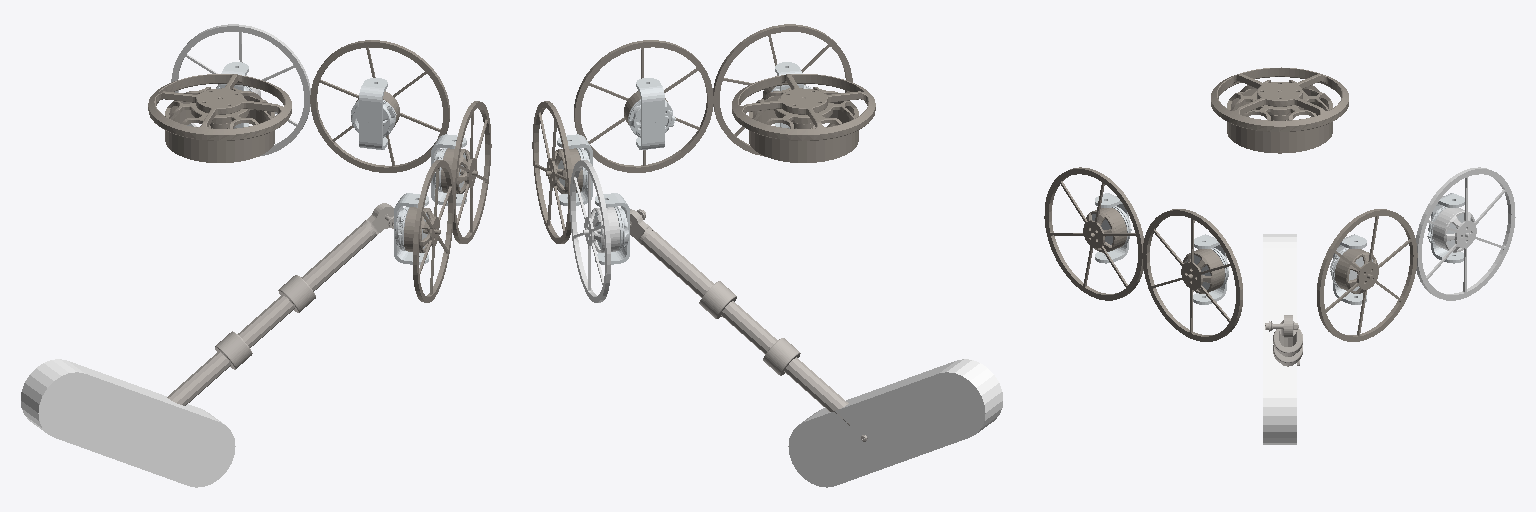
robot.urdf — hopper_cmg_01:
<?xml version="1.0" encoding="utf-8"?>
<!-- This URDF was automatically created by SolidWorks to URDF Exporter! Originally created by [author] ([email redacted]) 
     Commit Version: 1.6.0-4-g7f85cfe  Build Version: 1.6.7995.38578
     For more information, please see http://wiki.ros.org/sw_urdf_exporter -->
<robot
  name="hopper_cmg_01">
  <link
    name="base_link">
    <inertial>
      <origin
        xyz="0.00205710480969474 0.000103468829143708 0.0218759927030672"
        rpy="0 0 0" />
      <mass
        value="4.33216790659109" />
      <inertia
        ixx="0.00379773001718443"
        ixy="-3.22398991976046E-06"
        ixz="5.54302878598966E-05"
        iyy="0.00606718252076055"
        iyz="8.35829380134359E-06"
        izz="0.00477430931356579" />
    </inertial>
    <visual>
      <origin
        xyz="0 0 0"
        rpy="0 0 0" />
      <geometry>
        <mesh
          filename="package://hopper_cmg_01/meshes/base_link.STL" />
      </geometry>
      <material
        name="">
        <color
          rgba="0.898039215686275 0.898039215686275 0.898039215686275 1" />
      </material>
    </visual>
    <collision>
      <origin
        xyz="0 0 0"
        rpy="0 0 0" />
      <geometry>
        <mesh
          filename="package://hopper_cmg_01/meshes/base_link.STL" />
      </geometry>
    </collision>
  </link>
  <link
    name="Link 0">
    <inertial>
      <origin
        xyz="0.0121851264299085 0.018088901394185 0.00112690392742548"
        rpy="0 0 0" />
      <mass
        value="0.256385566503952" />
      <inertia
        ixx="3.84650100874964E-05"
        ixy="1.5379784060096E-05"
        ixz="-8.48318798628566E-06"
        iyy="0.00017263374747093"
        iyz="1.08260201375488E-06"
        izz="0.000148822440720501" />
    </inertial>
    <visual>
      <origin
        xyz="0 0 0"
        rpy="0 0 0" />
      <geometry>
        <mesh
          filename="package://hopper_cmg_01/meshes/Link 0.STL" />
      </geometry>
      <material
        name="">
        <color
          rgba="0.898039215686275 0.898039215686275 0.898039215686275 1" />
      </material>
    </visual>
    <collision>
      <origin
        xyz="0 0 0"
        rpy="0 0 0" />
      <geometry>
        <mesh
          filename="package://hopper_cmg_01/meshes/Link 0.STL" />
      </geometry>
    </collision>
  </link>
  <joint
    name="Joint 0"
    type="revolute">
    <origin
      xyz="0 0 0"
      rpy="0 0.5235987755983 0" />
    <parent
      link="base_link" />
    <child
      link="Link 0" />
    <axis
      xyz="0 -1 0" />
    <limit
      lower="-3.14"
      upper="3.14"
      effort="0"
      velocity="0" />
  </joint>
  <link
    name="Link 1">
    <inertial>
      <origin
        xyz="0.133101645966311 0.00652998365272042 -1.77401565659707E-09"
        rpy="0 0 0" />
      <mass
        value="0.0631473819780702" />
      <inertia
        ixx="2.55548531328565E-06"
        ixy="6.97718053258012E-12"
        ixz="-1.43600151472767E-12"
        iyy="0.000104301911822778"
        iyz="7.22908067863827E-12"
        izz="0.000104301119173831" />
    </inertial>
    <visual>
      <origin
        xyz="0 0 0"
        rpy="0 0 0" />
      <geometry>
        <mesh
          filename="package://hopper_cmg_01/meshes/Link 1.STL" />
      </geometry>
      <material
        name="">
        <color
          rgba="0.776470588235294 0.756862745098039 0.737254901960784 1" />
      </material>
    </visual>
    <collision>
      <origin
        xyz="0 0 0"
        rpy="0 0 0" />
      <geometry>
        <mesh
          filename="package://hopper_cmg_01/meshes/Link 1.STL" />
      </geometry>
    </collision>
  </link>
  <joint
    name="Joint 1"
    type="revolute">
    <origin
      xyz="0.0999999999999999 0 0"
      rpy="-3.14159265358979 1.0768315178335 -3.14159265358979" />
    <parent
      link="Link 0" />
    <child
      link="Link 1" />
    <axis
      xyz="0 -1 0" />
    <limit
      lower="-0.7597"
      upper="1.8295"
      effort="0"
      velocity="0" />
  </joint>
  <link
    name="Link 2">
    <inertial>
      <origin
        xyz="0.0389032292366799 -0.0169313659858608 -0.000627148515342586"
        rpy="0 0 0" />
      <mass
        value="0.288845047026487" />
      <inertia
        ixx="3.46488303945479E-05"
        ixy="-3.25958703037608E-07"
        ixz="5.2492869432016E-06"
        iyy="0.000245584749831182"
        iyz="3.01080240182648E-08"
        izz="0.000226676365115679" />
    </inertial>
    <visual>
      <origin
        xyz="0 0 0"
        rpy="0 0 0" />
      <geometry>
        <mesh
          filename="package://hopper_cmg_01/meshes/Link 2.STL" />
      </geometry>
      <material
        name="">
        <color
          rgba="0.898039215686275 0.898039215686275 0.898039215686275 1" />
      </material>
    </visual>
    <collision>
      <origin
        xyz="0 0 0"
        rpy="0 0 0" />
      <geometry>
        <mesh
          filename="package://hopper_cmg_01/meshes/Link 2.STL" />
      </geometry>
    </collision>
  </link>
  <joint
    name="Joint 2"
    type="revolute">
    <origin
      xyz="0 0 0"
      rpy="3.14159265358979 0.553232742319403 -3.14159265358979" />
    <parent
      link="base_link" />
    <child
      link="Link 2" />
    <axis
      xyz="0 -1 0" />
    <limit
      lower="-3.14"
      upper="3.14"
      effort="0"
      velocity="0" />
  </joint>
  <link
    name="Link 3">
    <inertial>
      <origin
        xyz="0.101438166339763 -0.00251001126653755 -0.0148532865535596"
        rpy="0 0 0" />
      <mass
        value="0.124857598489408" />
      <inertia
        ixx="1.60742533765856E-05"
        ixy="-5.54606758491007E-07"
        ixz="1.00368165914556E-06"
        iyy="0.000116506433508525"
        iyz="1.07130613360585E-07"
        izz="0.000112946753522058" />
    </inertial>
    <visual>
      <origin
        xyz="0 0 0"
        rpy="0 0 0" />
      <geometry>
        <mesh
          filename="package://hopper_cmg_01/meshes/Link 3.STL" />
      </geometry>
      <material
        name="">
        <color
          rgba="1 1 1 1" />
      </material>
    </visual>
    <collision>
      <origin
        xyz="0 0 0"
        rpy="0 0 0" />
      <geometry>
        <mesh
          filename="package://hopper_cmg_01/meshes/Link 3.STL" />
      </geometry>
    </collision>
  </link>
  <joint
    name="Joint 3"
    type="revolute">
    <origin
      xyz="0.270000000042219 0 0"
      rpy="-3.14159265358979 -1.07683151743819 3.14159265358979" />
    <parent
      link="Link 2" />
    <child
      link="Link 3" />
    <axis
      xyz="0 -1 0" />
    <limit
      lower="-1.8295"
      upper="0.7597"
      effort="0"
      velocity="0" />
  </joint>
  <link
    name="gimbal0">
    <inertial>
      <origin
        xyz="-3.24494830612199E-05 -0.00476693855528867 -0.0330146895510202"
        rpy="0 0 0" />
      <mass
        value="0.145059238039555" />
      <inertia
        ixx="2.1627044716609E-05"
        ixy="-3.51182077407443E-08"
        ixz="-1.73128407882401E-09"
        iyy="2.68084681052019E-05"
        iyz="-1.59539178282102E-08"
        izz="1.56100643951685E-05" />
    </inertial>
    <visual>
      <origin
        xyz="0 0 0"
        rpy="0 0 0" />
      <geometry>
        <mesh
          filename="package://hopper_cmg_01/meshes/gimbal0.STL" />
      </geometry>
      <material
        name="">
        <color
          rgba="0.898039215686275 0.917647058823529 0.929411764705882 1" />
      </material>
    </visual>
    <collision>
      <origin
        xyz="0 0 0"
        rpy="0 0 0" />
      <geometry>
        <mesh
          filename="package://hopper_cmg_01/meshes/gimbal0.STL" />
      </geometry>
    </collision>
  </link>
  <joint
    name="joint_gimbal0"
    type="revolute">
    <origin
      xyz="0.027153 -0.15058 -0.018"
      rpy="-3.1416 0 0.7854" />
    <parent
      link="base_link" />
    <child
      link="gimbal0" />
    <axis
      xyz="0 0 1" />
    <limit
      lower="-1.57"
      upper="1.57"
      effort="0"
      velocity="0" />
  </joint>
  <link
    name="rw0">
    <inertial>
      <origin
        xyz="1.18130272369621E-07 -1.53730910321115E-07 -0.00582396682589451"
        rpy="0 0 0" />
      <mass
        value="0.10970736907618" />
      <inertia
        ixx="9.95338850353853E-05"
        ixy="8.58053417645318E-12"
        ixz="-7.74394638549476E-11"
        iyy="9.95339643952823E-05"
        iyz="8.9678247023017E-11"
        izz="0.000195642469806102" />
    </inertial>
    <visual>
      <origin
        xyz="0 0 0"
        rpy="0 0 0" />
      <geometry>
        <mesh
          filename="package://hopper_cmg_01/meshes/rw0.STL" />
      </geometry>
      <material
        name="">
        <color
          rgba="0.647058823529412 0.619607843137255 0.588235294117647 1" />
      </material>
    </visual>
    <collision>
      <origin
        xyz="0 0 0"
        rpy="0 0 0" />
      <geometry>
        <mesh
          filename="package://hopper_cmg_01/meshes/rw0.STL" />
      </geometry>
    </collision>
  </link>
  <joint
    name="joint_rw0"
    type="continuous">
    <origin
      xyz="0 0.0157238798738167 -0.0329999999999999"
      rpy="1.5707963267949 0.735922711393741 3.14159265358979" />
    <parent
      link="gimbal0" />
    <child
      link="rw0" />
    <axis
      xyz="0 0 -1" />
  </joint>
  <link
    name="gimbal1">
    <inertial>
      <origin
        xyz="-3.41102978538912E-05 -0.0047669338527654 -0.0329897477383744"
        rpy="0 0 0" />
      <mass
        value="0.145059130395345" />
      <inertia
        ixx="2.16762469579868E-05"
        ixy="-3.69526691947023E-08"
        ixz="5.81585232223255E-08"
        iyy="2.68084516491841E-05"
        iyz="1.10533926993815E-08"
        izz="1.55608357332489E-05" />
    </inertial>
    <visual>
      <origin
        xyz="0 0 0"
        rpy="0 0 0" />
      <geometry>
        <mesh
          filename="package://hopper_cmg_01/meshes/gimbal1.STL" />
      </geometry>
      <material
        name="">
        <color
          rgba="0.898039215686275 0.917647058823529 0.929411764705882 1" />
      </material>
    </visual>
    <collision>
      <origin
        xyz="0 0 0"
        rpy="0 0 0" />
      <geometry>
        <mesh
          filename="package://hopper_cmg_01/meshes/gimbal1.STL" />
      </geometry>
    </collision>
  </link>
  <joint
    name="joint_gimbal1"
    type="revolute">
    <origin
      xyz="0.11201 -0.065724 -0.018"
      rpy="-3.1416 0 0.7854" />
    <parent
      link="base_link" />
    <child
      link="gimbal1" />
    <axis
      xyz="0 0 1" />
    <limit
      lower="-1.57"
      upper="1.57"
      effort="0"
      velocity="0" />
  </joint>
  <link
    name="rw1">
    <inertial>
      <origin
        xyz="1.44339613242575E-07 1.11792372546604E-07 -0.00582396537224694"
        rpy="0 0 0" />
      <mass
        value="0.109707273892969" />
      <inertia
        ixx="9.95339577788371E-05"
        ixy="-5.43102249159089E-12"
        ixz="-8.62468737503092E-11"
        iyy="9.95338754847295E-05"
        iyz="-7.49619774721266E-11"
        izz="0.000195642459860242" />
    </inertial>
    <visual>
      <origin
        xyz="0 0 0"
        rpy="0 0 0" />
      <geometry>
        <mesh
          filename="package://hopper_cmg_01/meshes/rw1.STL" />
      </geometry>
      <material
        name="">
        <color
          rgba="0.647058823529412 0.619607843137255 0.588235294117647 1" />
      </material>
    </visual>
    <collision>
      <origin
        xyz="0 0 0"
        rpy="0 0 0" />
      <geometry>
        <mesh
          filename="package://hopper_cmg_01/meshes/rw1.STL" />
      </geometry>
    </collision>
  </link>
  <joint
    name="joint_rw1"
    type="continuous">
    <origin
      xyz="0 0.0157238798738165 -0.0329999999999999"
      rpy="-1.57079632679488 1.552198018793 0" />
    <parent
      link="gimbal1" />
    <child
      link="rw1" />
    <axis
      xyz="0 0 -1" />
  </joint>
  <link
    name="rwz">
    <inertial>
      <origin
        xyz="9.05342751461591E-09 -3.16385459497859E-10 -0.0146079871766002"
        rpy="0 0 0" />
      <mass
        value="0.377854494953543" />
      <inertia
        ixx="0.000300958121757204"
        ixy="-4.23471731313997E-12"
        ixz="-6.67153439547317E-12"
        iyy="0.000300957997312783"
        iyz="9.55842481655238E-14"
        izz="0.000578115934214616" />
    </inertial>
    <visual>
      <origin
        xyz="0 0 0"
        rpy="0 0 0" />
      <geometry>
        <mesh
          filename="package://hopper_cmg_01/meshes/rwz.STL" />
      </geometry>
      <material
        name="">
        <color
          rgba="0.647058823529412 0.619607843137255 0.588235294117647 1" />
      </material>
    </visual>
    <collision>
      <origin
        xyz="0 0 0"
        rpy="0 0 0" />
      <geometry>
        <mesh
          filename="package://hopper_cmg_01/meshes/rwz.STL" />
      </geometry>
    </collision>
  </link>
  <joint
    name="joint_rwz"
    type="continuous">
    <origin
      xyz="-0.076 0 0.0991000000000001"
      rpy="0 0 -2.35619449019233" />
    <parent
      link="base_link" />
    <child
      link="rwz" />
    <axis
      xyz="0 0 1" />
  </joint>
  <link
    name="gimbal2">
    <inertial>
      <origin
        xyz="-3.24494830613101E-05 -0.00476693855528879 -0.0330146895510203"
        rpy="0 0 0" />
      <mass
        value="0.145059238039555" />
      <inertia
        ixx="2.1627044716609E-05"
        ixy="-3.51182077407705E-08"
        ixz="-1.73128407883209E-09"
        iyy="2.6808468105202E-05"
        iyz="-1.59539178282325E-08"
        izz="1.56100643951684E-05" />
    </inertial>
    <visual>
      <origin
        xyz="0 0 0"
        rpy="0 0 0" />
      <geometry>
        <mesh
          filename="package://hopper_cmg_01/meshes/gimbal2.STL" />
      </geometry>
      <material
        name="">
        <color
          rgba="0.898039215686275 0.917647058823529 0.929411764705882 1" />
      </material>
    </visual>
    <collision>
      <origin
        xyz="0 0 0"
        rpy="0 0 0" />
      <geometry>
        <mesh
          filename="package://hopper_cmg_01/meshes/gimbal2.STL" />
      </geometry>
    </collision>
  </link>
  <joint
    name="joint_gimbal2"
    type="revolute">
    <origin
      xyz="0.11201 0.065724 -0.018"
      rpy="3.1416 0 2.3562" />
    <parent
      link="base_link" />
    <child
      link="gimbal2" />
    <axis
      xyz="0 0 1" />
    <limit
      lower="-1.57"
      upper="1.57"
      effort="0"
      velocity="0" />
  </joint>
  <link
    name="rw2">
    <inertial>
      <origin
        xyz="1.18130272369621E-07 -1.53730910432137E-07 -0.00582396682589442"
        rpy="0 0 0" />
      <mass
        value="0.10970736907618" />
      <inertia
        ixx="9.95338850353859E-05"
        ixy="8.58053420186417E-12"
        ixz="-7.74394639023815E-11"
        iyy="9.95339643952829E-05"
        iyz="8.9678247023017E-11"
        izz="0.000195642469806104" />
    </inertial>
    <visual>
      <origin
        xyz="0 0 0"
        rpy="0 0 0" />
      <geometry>
        <mesh
          filename="package://hopper_cmg_01/meshes/rw2.STL" />
      </geometry>
      <material
        name="">
        <color
          rgba="0.647058823529412 0.619607843137255 0.588235294117647 1" />
      </material>
    </visual>
    <collision>
      <origin
        xyz="0 0 0"
        rpy="0 0 0" />
      <geometry>
        <mesh
          filename="package://hopper_cmg_01/meshes/rw2.STL" />
      </geometry>
    </collision>
  </link>
  <joint
    name="joint_rw2"
    type="continuous">
    <origin
      xyz="0 0.0157238798738165 -0.033"
      rpy="1.5707963267949 0.73592271139374 -3.14159265358979" />
    <parent
      link="gimbal2" />
    <child
      link="rw2" />
    <axis
      xyz="0 0 -1" />
  </joint>
  <link
    name="gimbal3">
    <inertial>
      <origin
        xyz="-3.41103479271632E-05 -0.00476693386081009 -0.0329897477404721"
        rpy="0 0 0" />
      <mass
        value="0.145059131410169" />
      <inertia
        ixx="2.16762469514495E-05"
        ixy="-3.69526817014293E-08"
        ixz="5.81585215101624E-08"
        iyy="2.68084517015779E-05"
        iyz="1.10533963414748E-08"
        izz="1.55608357842301E-05" />
    </inertial>
    <visual>
      <origin
        xyz="0 0 0"
        rpy="0 0 0" />
      <geometry>
        <mesh
          filename="package://hopper_cmg_01/meshes/gimbal3.STL" />
      </geometry>
      <material
        name="">
        <color
          rgba="0.898039215686275 0.917647058823529 0.929411764705882 1" />
      </material>
    </visual>
    <collision>
      <origin
        xyz="0 0 0"
        rpy="0 0 0" />
      <geometry>
        <mesh
          filename="package://hopper_cmg_01/meshes/gimbal3.STL" />
      </geometry>
    </collision>
  </link>
  <joint
    name="joint_gimbal3"
    type="revolute">
    <origin
      xyz="0.027153 0.15058 -0.018"
      rpy="3.1416 0 2.3562" />
    <parent
      link="base_link" />
    <child
      link="gimbal3" />
    <axis
      xyz="0 0 1" />
    <limit
      lower="-1.57"
      upper="1.57"
      effort="0"
      velocity="0" />
  </joint>
  <link
    name="rw3">
    <inertial>
      <origin
        xyz="1.44339613383088E-07 1.11792372622932E-07 -0.00582396537224694"
        rpy="0 0 0" />
      <mass
        value="0.109707273892969" />
      <inertia
        ixx="9.95339577788376E-05"
        ixy="-5.43102247973243E-12"
        ixz="-8.6246873737392E-11"
        iyy="9.95338754847298E-05"
        iyz="-7.49619774958435E-11"
        izz="0.000195642459860243" />
    </inertial>
    <visual>
      <origin
        xyz="0 0 0"
        rpy="0 0 0" />
      <geometry>
        <mesh
          filename="package://hopper_cmg_01/meshes/rw3.STL" />
      </geometry>
      <material
        name="">
        <color
          rgba="0.898039215686275 0.898039215686275 0.898039215686275 1" />
      </material>
    </visual>
    <collision>
      <origin
        xyz="0 0 0"
        rpy="0 0 0" />
      <geometry>
        <mesh
          filename="package://hopper_cmg_01/meshes/rw3.STL" />
      </geometry>
    </collision>
  </link>
  <joint
    name="joint_rw3"
    type="continuous">
    <origin
      xyz="0 0.0157238798738165 -0.033"
      rpy="-1.57079632679489 1.552198018793 0" />
    <parent
      link="gimbal3" />
    <child
      link="rw3" />
    <axis
      xyz="0 0 -1" />
  </joint>
</robot>

--- Facts derived from the render (not from the file) ---
The picture shows the robot from 3 angles, left to right: view 1: azimuth 30°, elevation 25°; view 2: azimuth 150°, elevation 25°; view 3: azimuth 270°, elevation 25°; orthographic projection.
Model hopper_cmg_01 with 14 links and 13 joints (8 revolute, 5 continuous), rooted at base_link, posed every joint at zero.
Links seen in each view (by area): view 1: Link 3, rwz, Link 1, rw2, rw0, rw1, rw3, gimbal2, gimbal0, gimbal1; view 2: Link 3, rwz, Link 1, rw1, rw3, rw2, rw0, gimbal1, gimbal3, gimbal2; view 3: rwz, Link 3, rw2, rw1, rw0, rw3, Link 1, gimbal3, gimbal1, gimbal0, gimbal2.
Boxes of the visible links, bbox=[...] form: Link 3: bbox=[21, 359, 235, 487]; rwz: bbox=[148, 74, 291, 162]; Link 1: bbox=[167, 203, 393, 405]; rw2: bbox=[310, 40, 449, 172]; rw0: bbox=[404, 160, 453, 302]; rw1: bbox=[441, 101, 491, 243]; rw3: bbox=[171, 24, 310, 156]; gimbal2: bbox=[351, 78, 396, 149]; gimbal0: bbox=[394, 193, 428, 264]; gimbal1: bbox=[431, 134, 466, 205]; Link 3: bbox=[788, 359, 1002, 487]; rwz: bbox=[732, 74, 875, 162]; Link 1: bbox=[630, 209, 867, 441]; rw1: bbox=[574, 40, 713, 172]; rw3: bbox=[570, 160, 619, 302]; rw2: bbox=[532, 101, 582, 243]; rw0: bbox=[713, 24, 852, 156]; gimbal1: bbox=[628, 78, 675, 149]; gimbal3: bbox=[595, 193, 629, 264]; gimbal2: bbox=[557, 134, 592, 205]; rwz: bbox=[1211, 67, 1348, 153]; Link 3: bbox=[1263, 234, 1296, 444]; rw2: bbox=[1317, 209, 1417, 341]; rw1: bbox=[1142, 209, 1242, 341]; rw0: bbox=[1044, 167, 1143, 300]; rw3: bbox=[1416, 167, 1515, 300]; Link 1: bbox=[1265, 315, 1302, 366]; gimbal3: bbox=[1427, 193, 1470, 263]; gimbal1: bbox=[1186, 234, 1228, 304]; gimbal0: bbox=[1092, 193, 1131, 263]; gimbal2: bbox=[1330, 234, 1372, 304].
Size in the robot's own frame: 0.4252 by 0.4081 by 0.346 metres.
11 mesh visuals loaded from 14 distinct referenced files (11 binary STL); not drawn: 3 (reference not matched to a file when rendering).